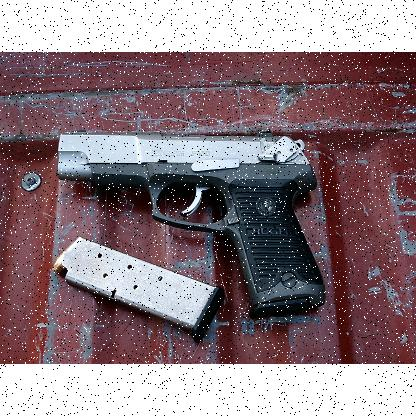gun: (58, 130, 326, 318)
